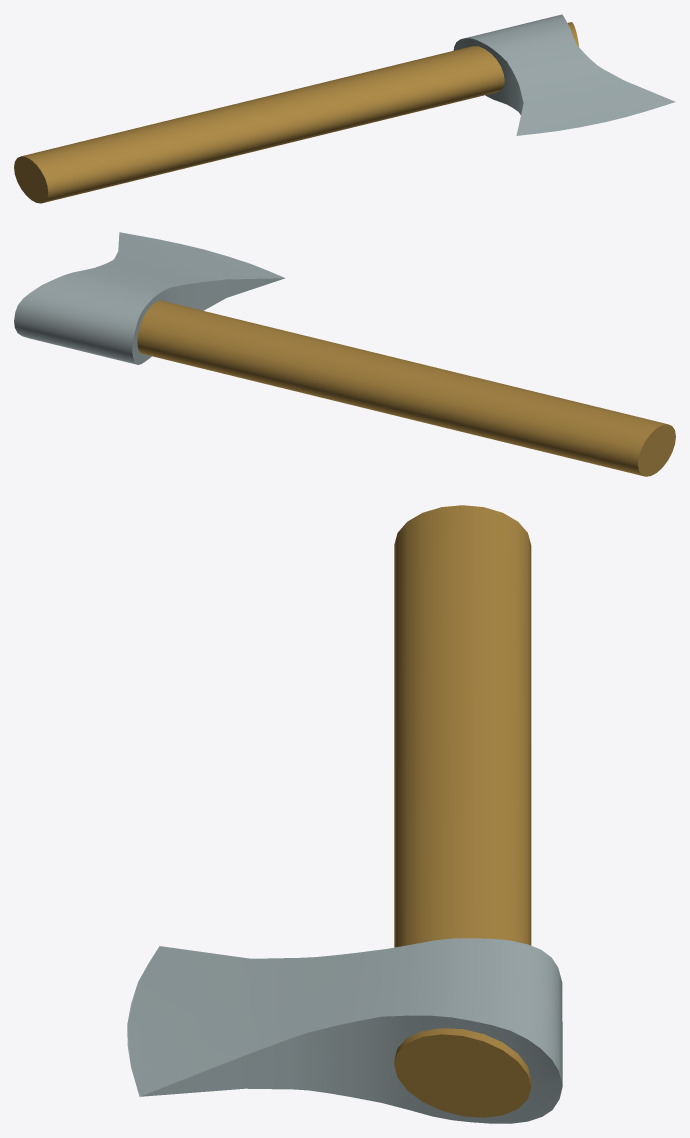
Rendered from Axe.fbx.
3 views of the same model, one above another, from view 1: azimuth 30°, elevation 25°; view 2: azimuth 150°, elevation 25°; view 3: azimuth 270°, elevation 25° (orthographic). The views are drawn at different scales.
Parts seen in each view (by area): view 1: Axe; view 2: Axe; view 3: Axe.
Boxes of the visible parts, x1,y1,x2,y2 form: Axe: (14, 14, 675, 203); Axe: (14, 232, 675, 476); Axe: (127, 505, 562, 1123).
Bounding box in the file's own units: 1.42 × 0.1239 × 0.476.
